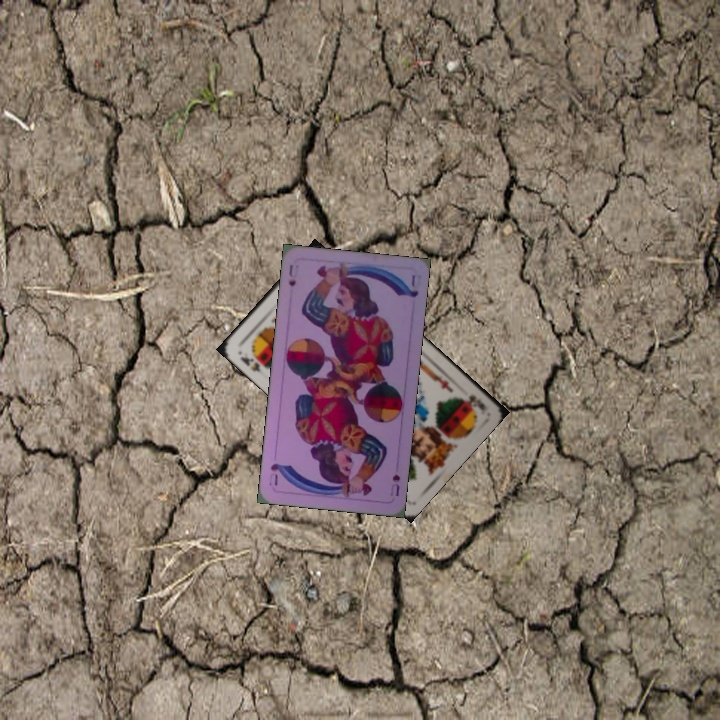SK: (234, 347, 271, 375), (461, 390, 489, 413)
SU: (386, 470, 402, 499), (284, 260, 298, 289)
